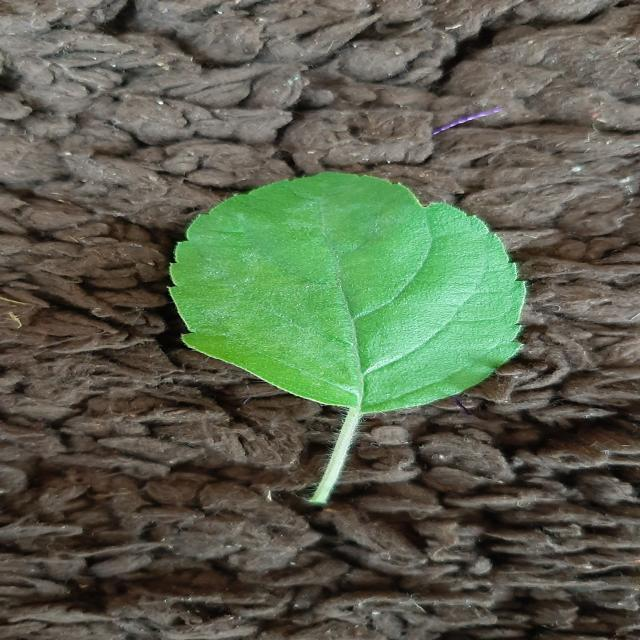tulsi: (171, 172, 526, 504)
